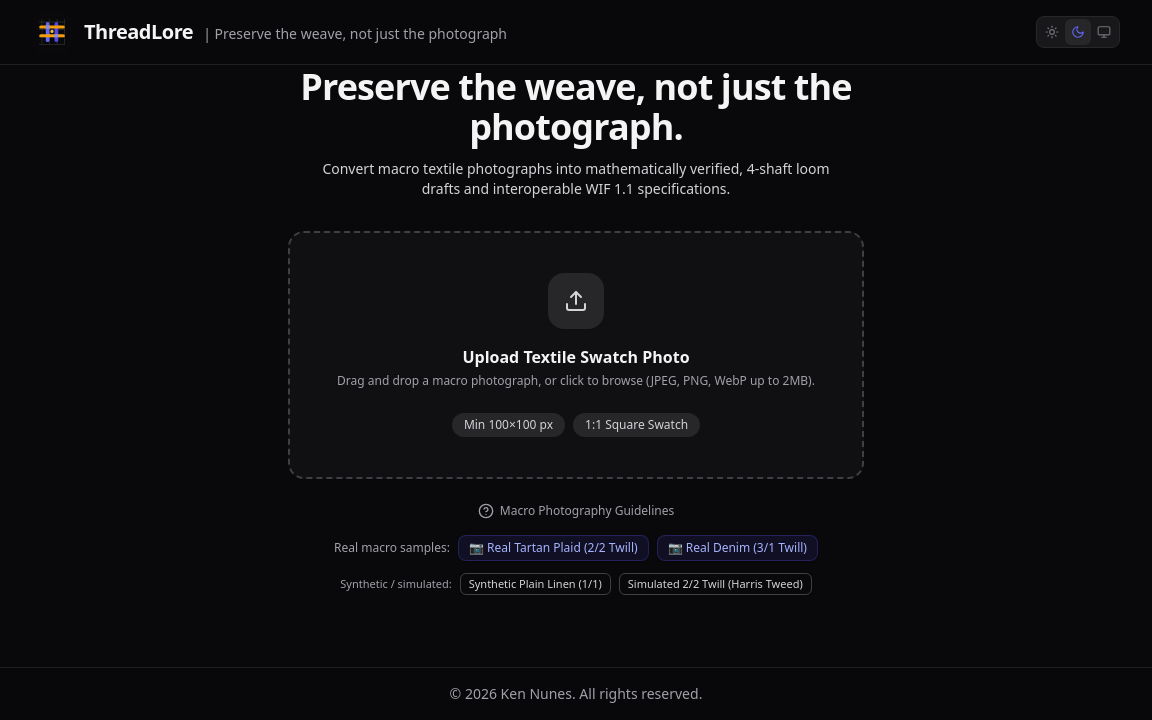
Test: Issue #7 - Swatch Analysis Error Details Preservation › should display specific server error details when swatch analysis fails with HTTP 400
(page scrolled)
Note: Advance to crop step
Click the button "Synthetic Plain Linen (1/1)" at (535, 584), box [460,573,611,595]
(page scrolled)
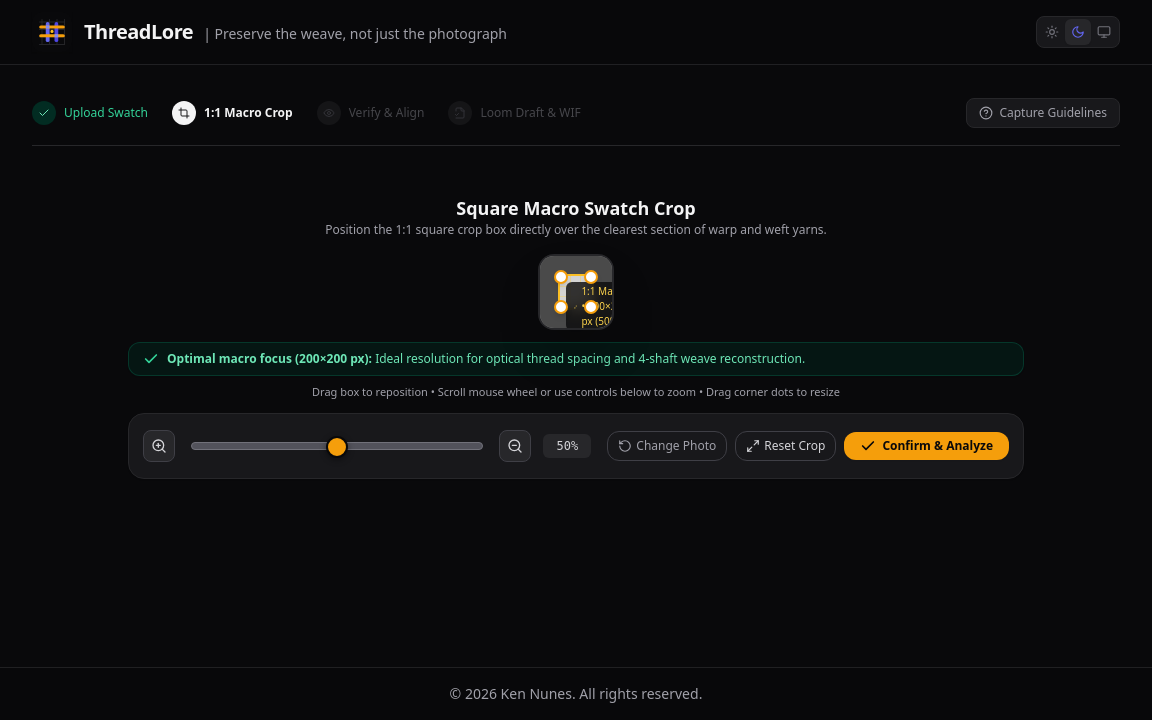
Expected: the heading "Square Macro Swatch Crop" is shown, [456,196,696,220]
Click the button "Confirm & Analyze" at (927, 446), box [844,432,1009,460]
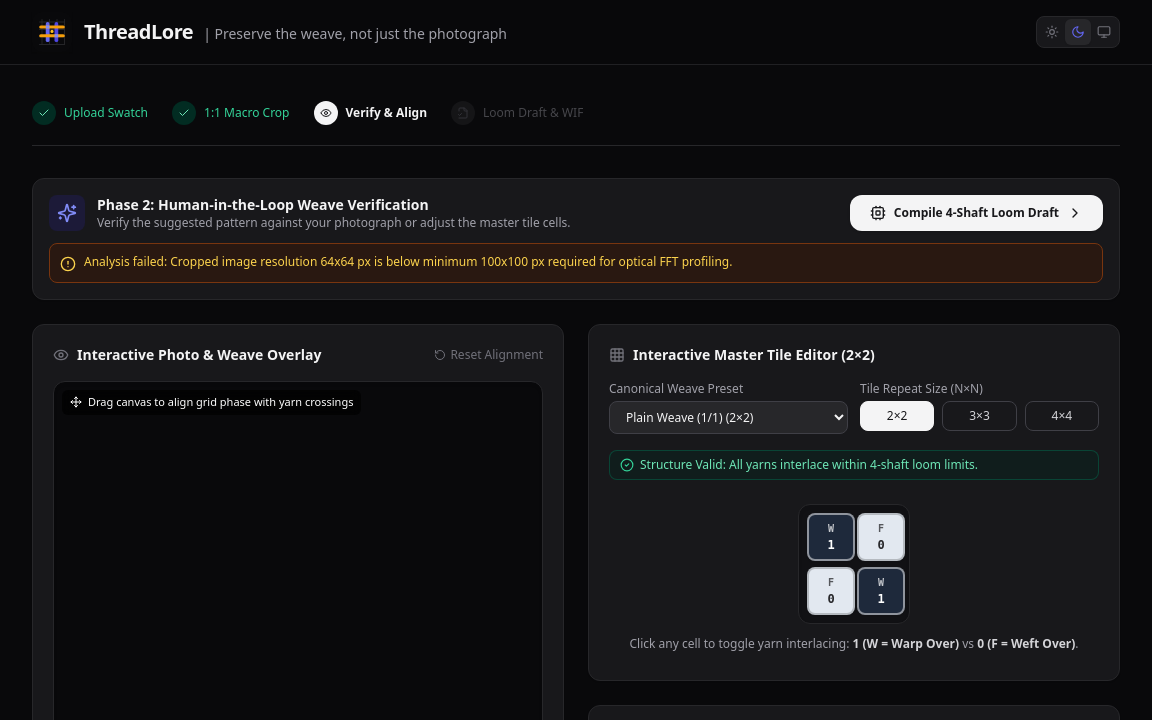
Expected: the text "Phase 2: Human-in-the-Loop Weave Verification" is shown, [97,195,429,215]
Expected: the text "Cropped image resolution 64x64 px is below minimum 100x100 px required for optical FFT profiling." is shown, [84,253,732,270]
